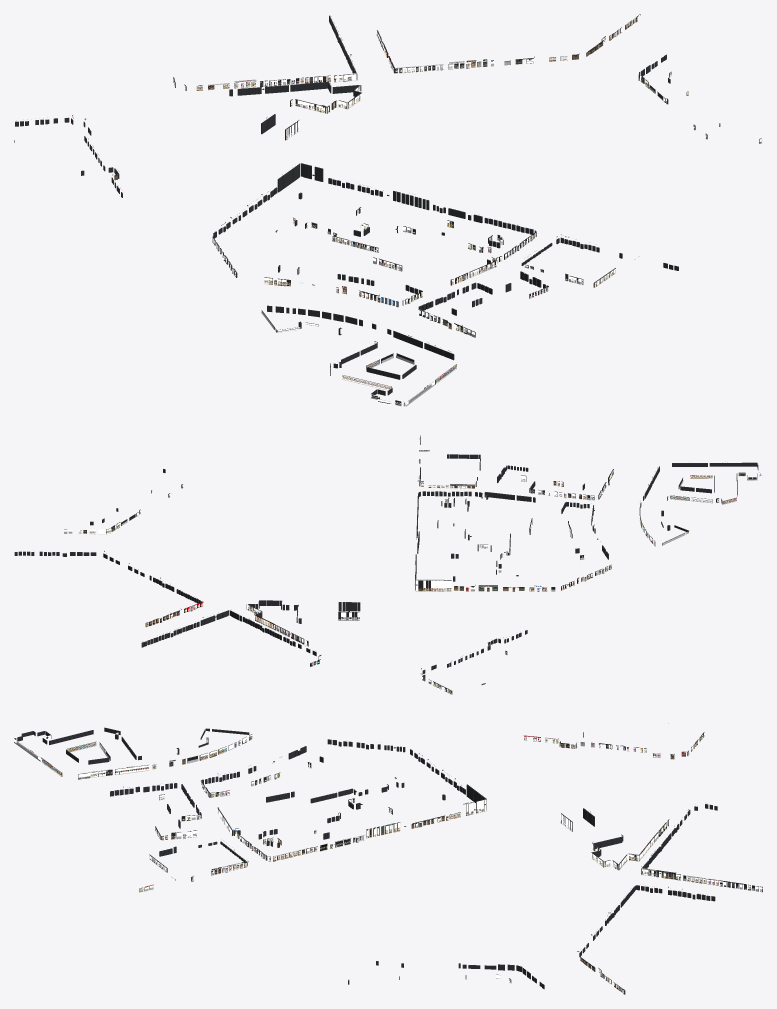
Rendered from signage.glb.
The picture shows the model from 3 angles, top to bottom: view 1: azimuth 30°, elevation 25°; view 2: azimuth 150°, elevation 25°; view 3: azimuth 270°, elevation 25°; orthographic projection. The views are drawn at different scales.
Parts seen in each view (by area): view 1: signage_matte_-1_4_nocol_noshadow, signage_matte_1_0_nocol_noshadow, signage_matte_0_2_nocol_noshadow, signage_matte_0_0_nocol_noshadow, signage_matte_1_3_nocol_noshadow, signage_matte_0_3_nocol_noshadow, signage_matte_0_4_nocol_noshadow, signage_matte_-1_3_nocol_noshadow, signage_matte_0_1_nocol_noshadow, signage_glow_1_0_nocol_noshadow; view 2: signage_matte_1_0_nocol_noshadow, signage_matte_-1_4_nocol_noshadow, signage_matte_0_3_nocol_noshadow, signage_matte_0_0_nocol_noshadow, signage_matte_-1_2_nocol_noshadow, signage_matte_-1_5_nocol_noshadow, signage_matte_1_3_nocol_noshadow; view 3: signage_matte_-1_4_nocol_noshadow, signage_matte_1_0_nocol_noshadow, signage_matte_0_3_nocol_noshadow, signage_matte_1_3_nocol_noshadow, signage_matte_0_2_nocol_noshadow, signage_matte_-1_2_nocol_noshadow, signage_matte_-1_3_nocol_noshadow, signage_glow_1_0_nocol_noshadow, signage_matte_0_0_nocol_noshadow, signage_glow_0_2_nocol_noshadow, signage_matte_0_4_nocol_noshadow.
Part boxes in pixels (box(x1,y1,x2,y2)): signage_matte_-1_4_nocol_noshadow: box(305, 293, 471, 369); signage_matte_1_0_nocol_noshadow: box(280, 44, 422, 113); signage_matte_0_2_nocol_noshadow: box(298, 182, 464, 247); signage_matte_0_0_nocol_noshadow: box(208, 79, 313, 134); signage_matte_1_3_nocol_noshadow: box(470, 214, 599, 263); signage_matte_0_3_nocol_noshadow: box(357, 220, 530, 294); signage_matte_0_4_nocol_noshadow: box(420, 266, 548, 337); signage_matte_-1_3_nocol_noshadow: box(264, 265, 412, 319); signage_matte_0_1_nocol_noshadow: box(277, 124, 340, 192); signage_glow_1_0_nocol_noshadow: box(281, 48, 413, 113); signage_matte_1_0_nocol_noshadow: box(170, 597, 298, 633); signage_matte_-1_4_nocol_noshadow: box(570, 470, 711, 526); signage_matte_0_3_nocol_noshadow: box(437, 482, 565, 541); signage_matte_0_0_nocol_noshadow: box(269, 602, 359, 652); signage_matte_-1_2_nocol_noshadow: box(479, 546, 603, 591); signage_matte_-1_5_nocol_noshadow: box(656, 461, 757, 488); signage_matte_1_3_nocol_noshadow: box(417, 467, 474, 519); signage_matte_-1_4_nocol_noshadow: box(88, 739, 211, 795); signage_matte_1_0_nocol_noshadow: box(591, 840, 686, 896); signage_matte_0_3_nocol_noshadow: box(211, 791, 330, 845); signage_matte_1_3_nocol_noshadow: box(211, 841, 330, 875); signage_matte_0_2_nocol_noshadow: box(330, 791, 448, 847); signage_matte_-1_2_nocol_noshadow: box(338, 741, 449, 795); signage_matte_-1_3_nocol_noshadow: box(210, 741, 323, 795); signage_glow_1_0_nocol_noshadow: box(591, 842, 685, 879); signage_matte_0_0_nocol_noshadow: box(567, 808, 686, 846); signage_glow_0_2_nocol_noshadow: box(336, 798, 448, 845); signage_matte_0_4_nocol_noshadow: box(110, 790, 212, 845).
Size of the model in its own units: 338 by 11.03 by 404.
Materials: 6 (5 with a texture image).
